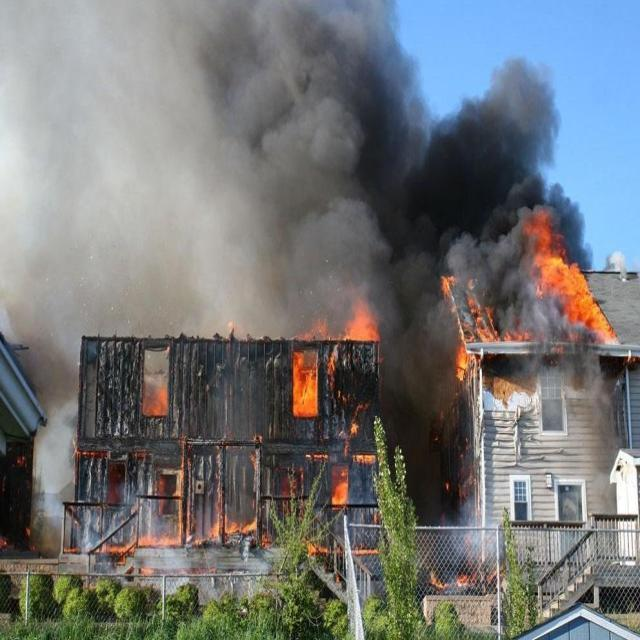Fire: (440, 211, 620, 382), (99, 437, 275, 550), (292, 302, 384, 508), (430, 560, 504, 588), (306, 540, 380, 560), (142, 386, 166, 418)
Smoke: (1, 1, 626, 556)
